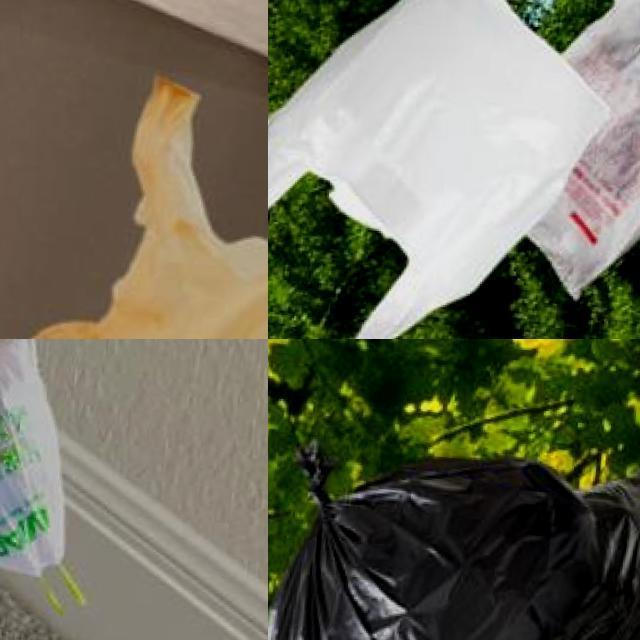waste: (268, 0, 620, 339), (5, 66, 268, 339), (268, 442, 597, 640), (502, 0, 640, 312), (0, 339, 153, 610), (546, 465, 640, 640)
